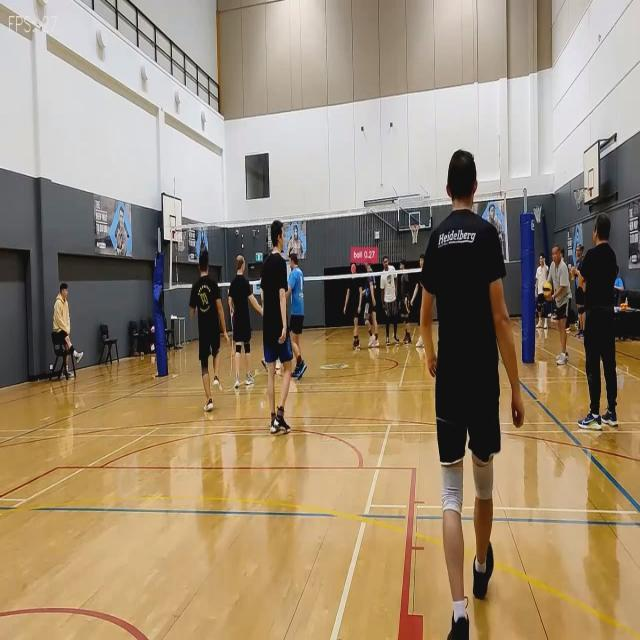volleyball: (542, 281, 552, 296)
